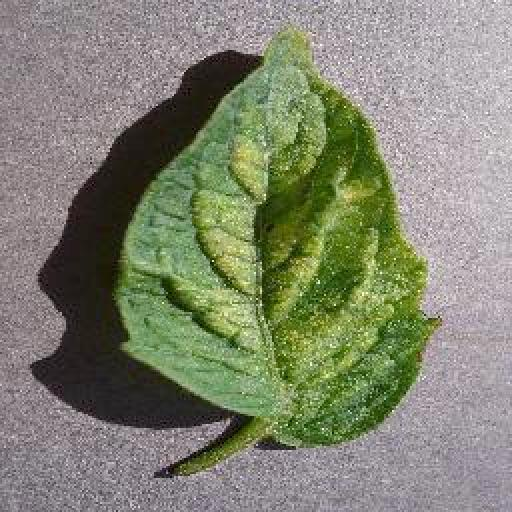disease_tomato: (110, 36, 434, 452)
